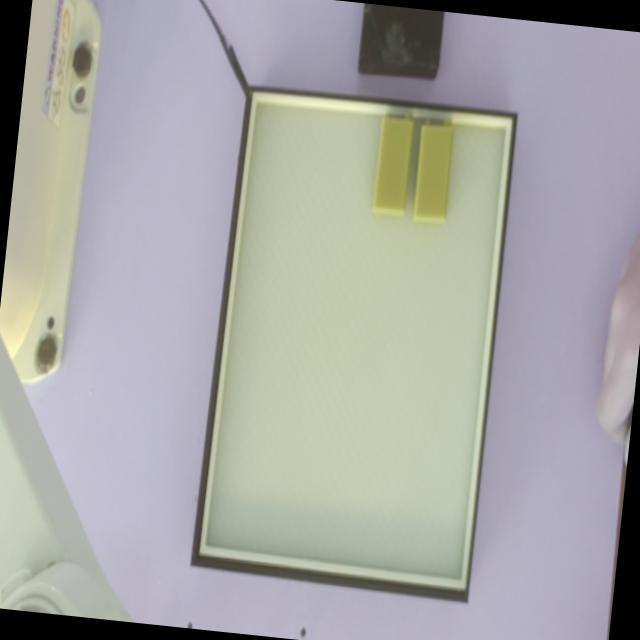bateria: (412, 120, 454, 225), (373, 112, 415, 217)
mesa: (189, 84, 517, 602)
